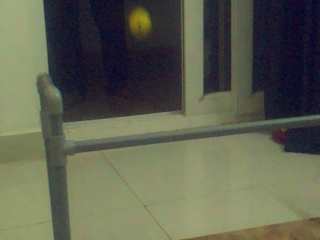ball: (128, 6, 152, 39)
